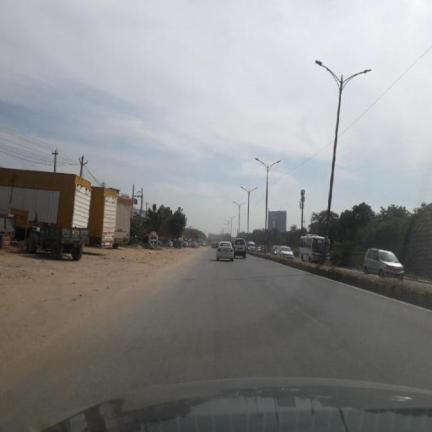Road: (0, 249, 431, 428)
